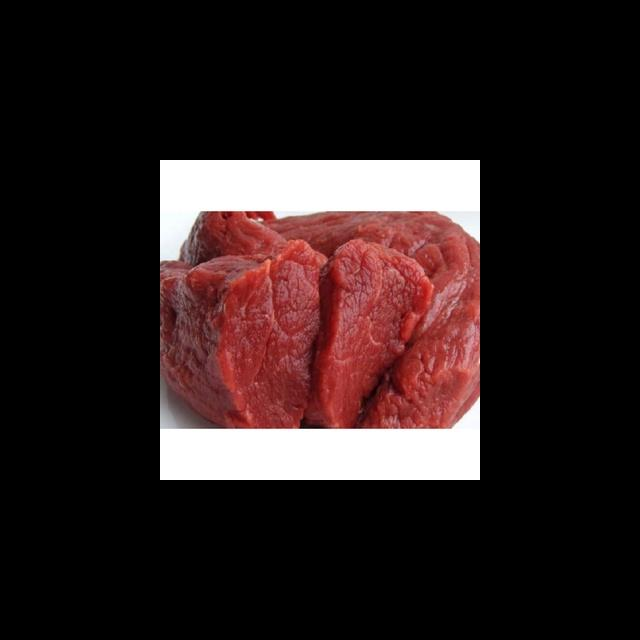beef: (162, 211, 478, 431)
